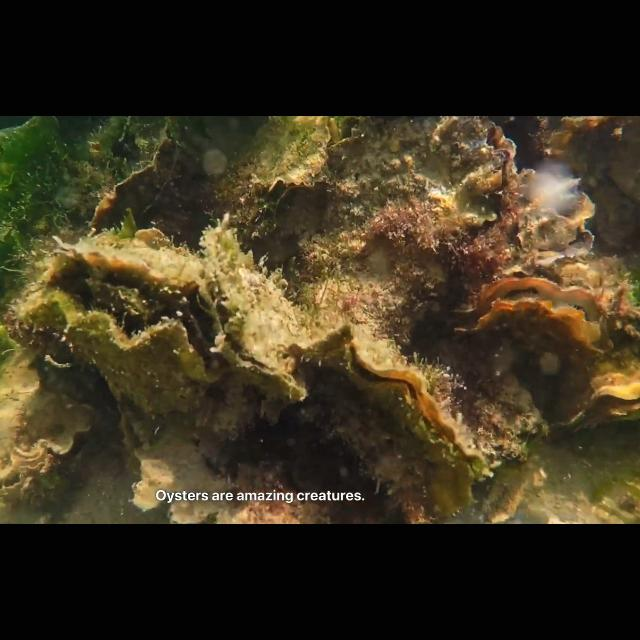Oyster-Closed: (88, 132, 188, 228)
Oyster-Open: (309, 116, 517, 348), (284, 314, 482, 512), (26, 230, 234, 412), (197, 216, 306, 398), (449, 270, 611, 360), (538, 117, 640, 246), (0, 382, 98, 498), (499, 164, 593, 270), (244, 120, 332, 204), (545, 366, 640, 429), (215, 172, 278, 242), (117, 406, 155, 476)
